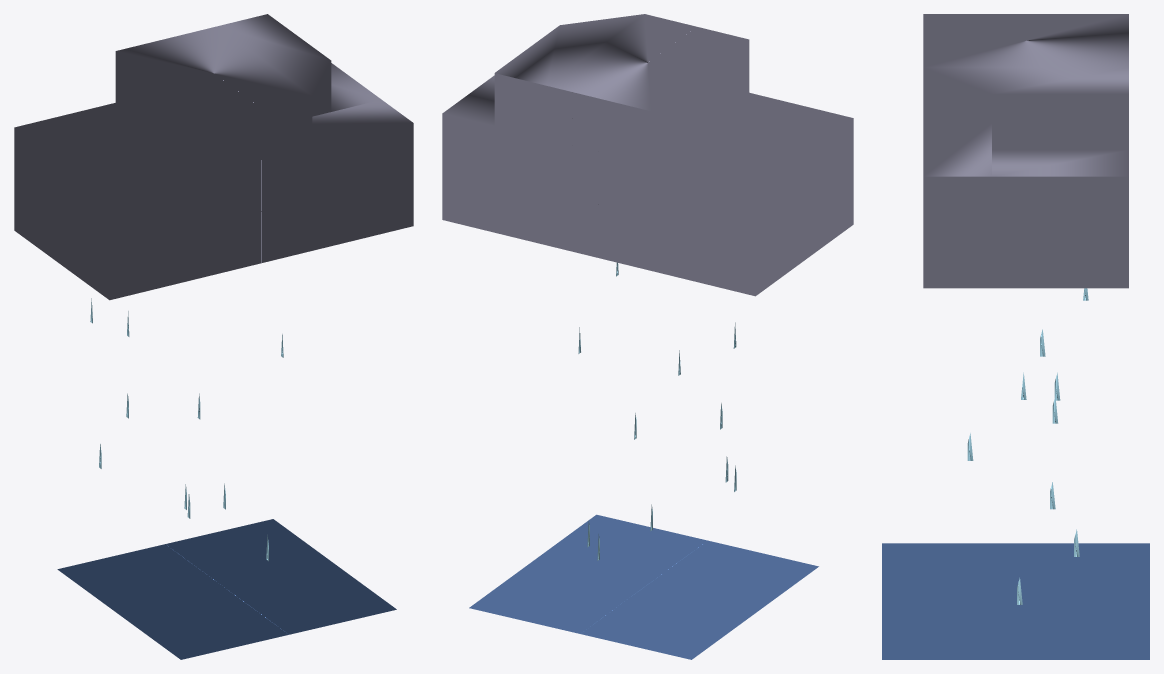
File: rain-cloud-pixor-blocky_lod2.glb
The picture shows the model from 3 angles, left to right: view 1: azimuth 30°, elevation 25°; view 2: azimuth 150°, elevation 25°; view 3: azimuth 270°, elevation 25°; orthographic projection. The views are drawn at different scales.
Visible parts, largest first — view 1: Rain cloud, Rain puddle, Rain streaks; view 2: Rain cloud, Rain puddle, Rain streaks; view 3: Rain cloud, Rain puddle, Rain streaks.
Part boxes in pixels (x1,y1,x2,y2): Rain cloud: [14, 14, 413, 300]; Rain puddle: [57, 519, 396, 659]; Rain streaks: [90, 298, 283, 561]; Rain cloud: [442, 14, 853, 296]; Rain puddle: [469, 514, 818, 659]; Rain streaks: [578, 262, 736, 560]; Rain cloud: [923, 14, 1128, 288]; Rain puddle: [882, 543, 1149, 659]; Rain streaks: [967, 288, 1088, 604].
Size of the model in its own units: 1.59 by 2.57 by 1.12.
